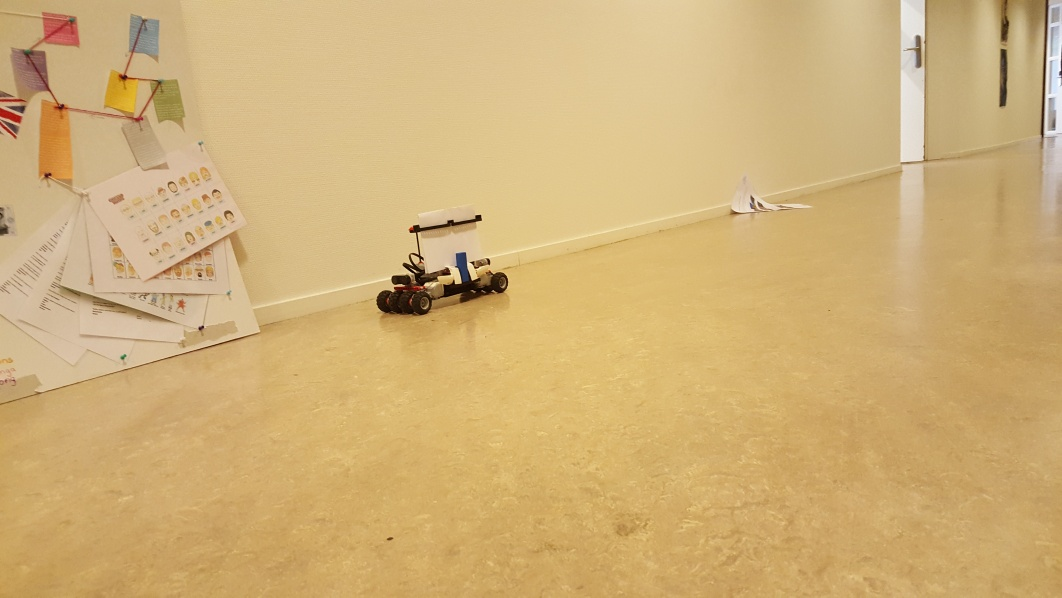car: (375, 204, 508, 315)
